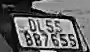5: (68, 31, 77, 49), (45, 18, 55, 32), (60, 32, 68, 49)
6: (50, 34, 60, 47)
7: (41, 33, 50, 47)
B: (22, 29, 33, 48), (33, 32, 43, 48)
D: (27, 18, 37, 33)
L: (35, 19, 43, 34)
S: (51, 18, 62, 33)
